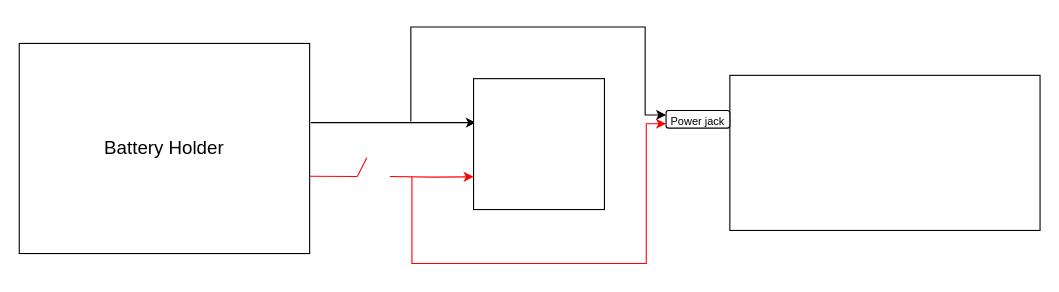
Some shapes in this 1059 by 292 pixel diagram are drawn without their labels. The centre of each missing label's shape, as x and y in pixels:
Arduino Mega: pixel 884 152
H-Bridge: pixel 538 144
